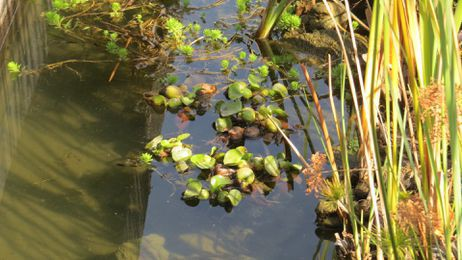water_hyacinth: (141, 66, 298, 213)
